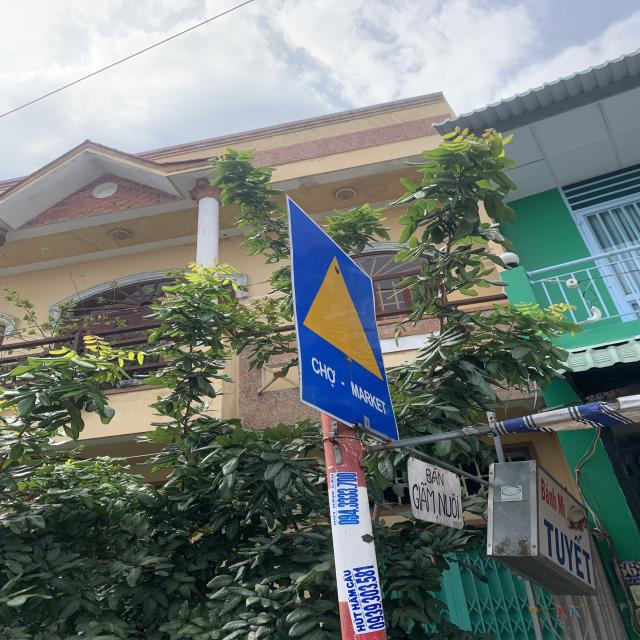Cho_Quay_Xe: (290, 197, 394, 442)
